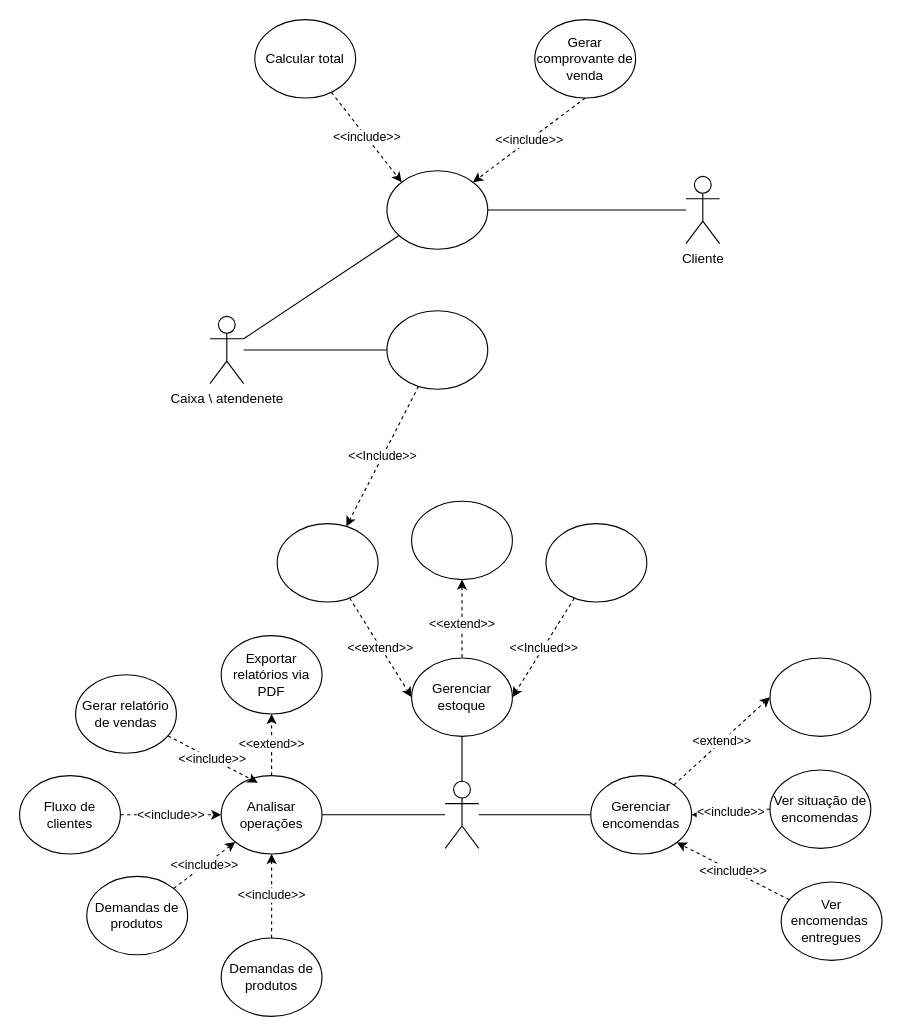
The diagram is 902 pixels wide and 1036 high, and some of its shapes have lost their labels. Here are the shapes that lost their labels. From the top down, the centre of each, then its label:
the point at 437,209: Efetuar pagamento
the point at 437,349: Atualizar estoque
the point at 461,540: Adicionar produtos
the point at 327,562: Dar baixa em produtos
the point at 596,562: Consultar nivel de estoque
the point at 820,696: Alterar encomendas
the point at 461,814: Gerente \ Administrador
